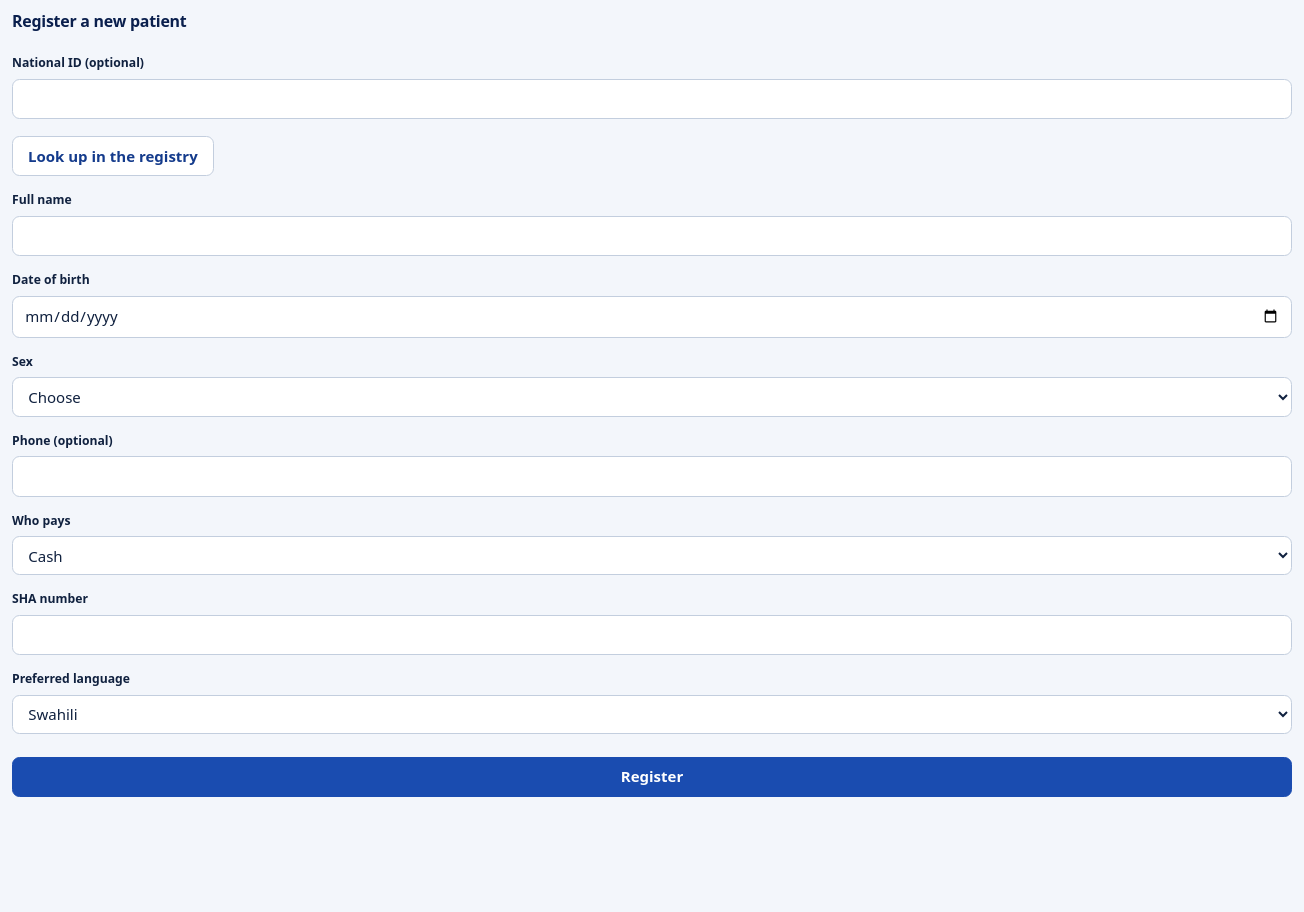
Scenario: Registry lookup on the registration form › falls back to typing when the registry has no such person
This screenshot has width=1304, height=912.
Type "31234567" into the field labelled "National ID (optional)" at (652, 99), box [12,79,1292,119]
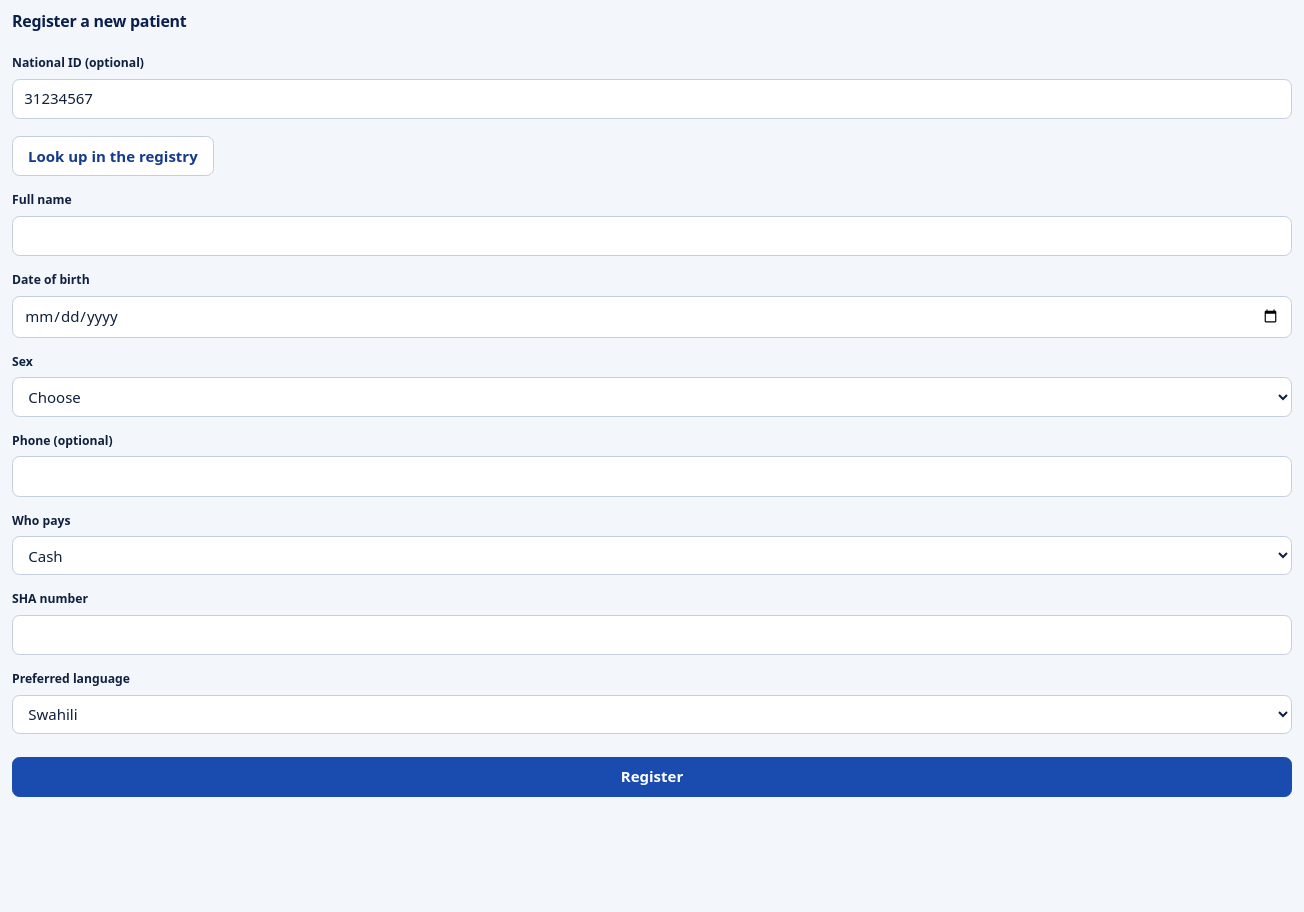
Click the button "Look up in the registry" at (113, 156), box [12,136,214,176]
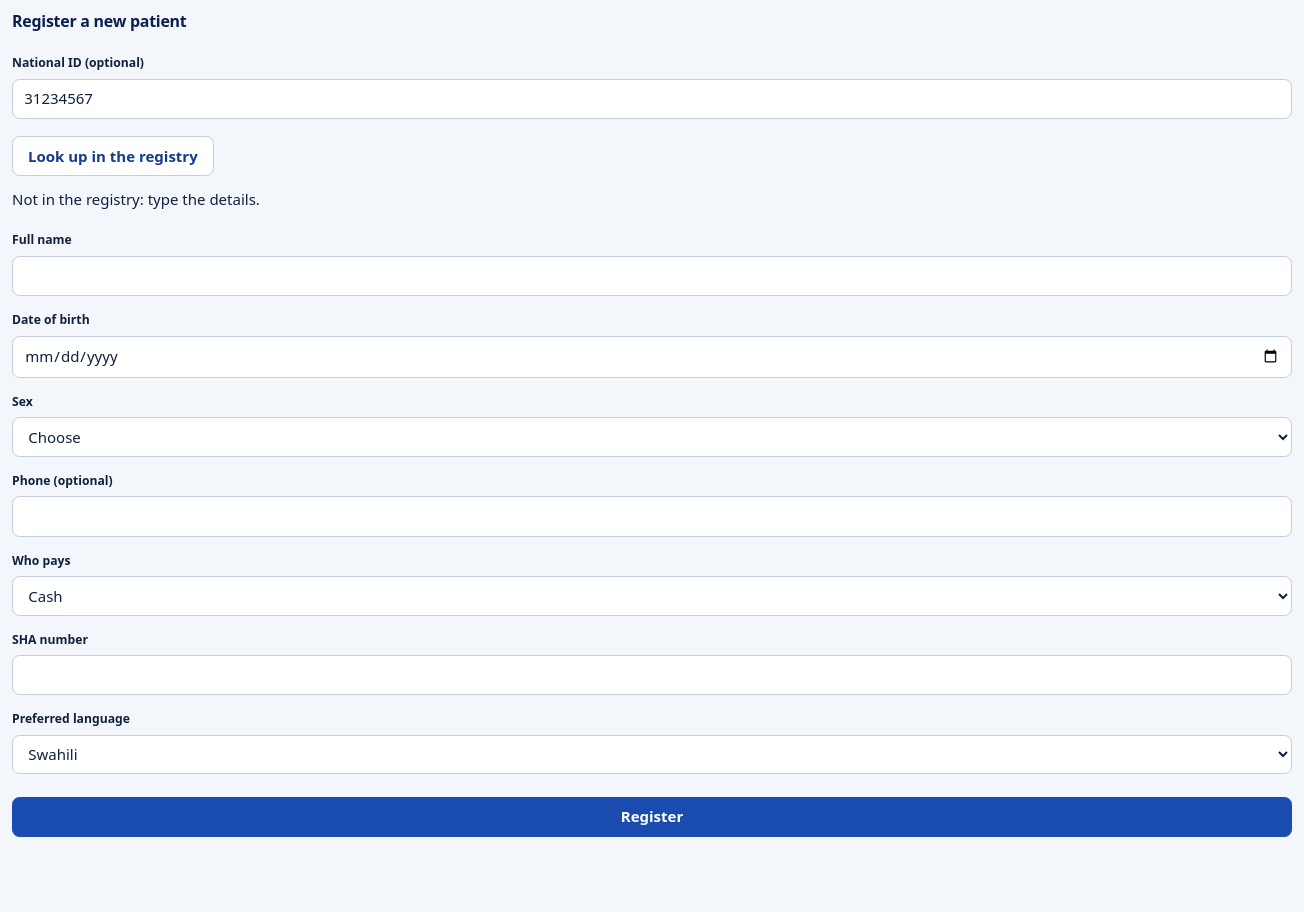
Expected: the field labelled "Full name" is empty, [12,256,1292,296]
Expected: the text "Not in the registry: type the details." is shown, [12,189,260,209]
